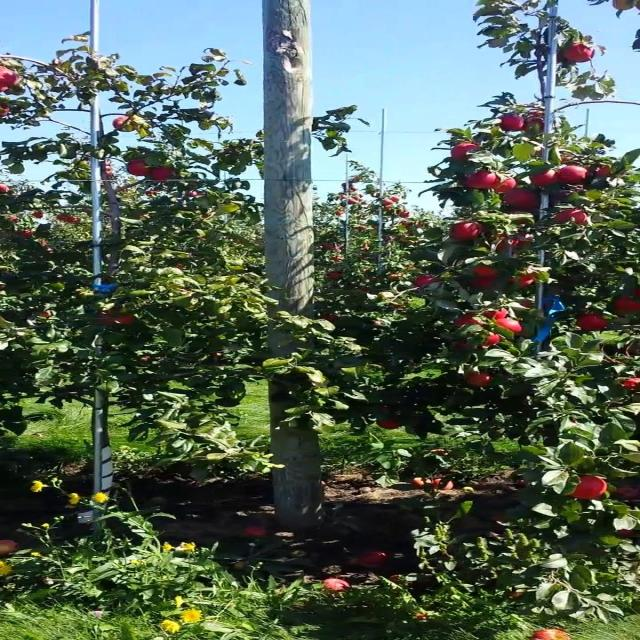apple: (575, 476, 610, 500), (568, 44, 597, 64), (454, 224, 484, 240), (468, 172, 498, 188), (532, 628, 571, 640), (561, 168, 590, 184), (504, 192, 537, 206), (582, 316, 610, 331), (532, 172, 560, 187), (454, 144, 482, 159), (525, 116, 548, 132), (468, 372, 492, 387), (127, 160, 149, 176), (497, 236, 521, 250), (504, 116, 524, 132), (561, 212, 590, 223), (497, 320, 523, 332), (454, 316, 482, 327), (511, 276, 537, 287), (497, 180, 519, 192), (618, 300, 638, 313), (156, 168, 176, 181), (113, 116, 132, 128), (620, 488, 639, 500), (6, 72, 21, 87), (618, 0, 636, 12), (476, 268, 498, 277), (483, 336, 501, 346), (99, 312, 114, 324), (383, 420, 400, 430), (419, 276, 436, 286), (490, 312, 508, 320), (476, 280, 494, 288), (596, 168, 612, 177), (618, 532, 638, 539), (476, 280, 492, 288), (625, 380, 639, 389), (120, 316, 135, 324), (42, 312, 53, 319), (326, 316, 340, 321), (8, 108, 12, 111)
